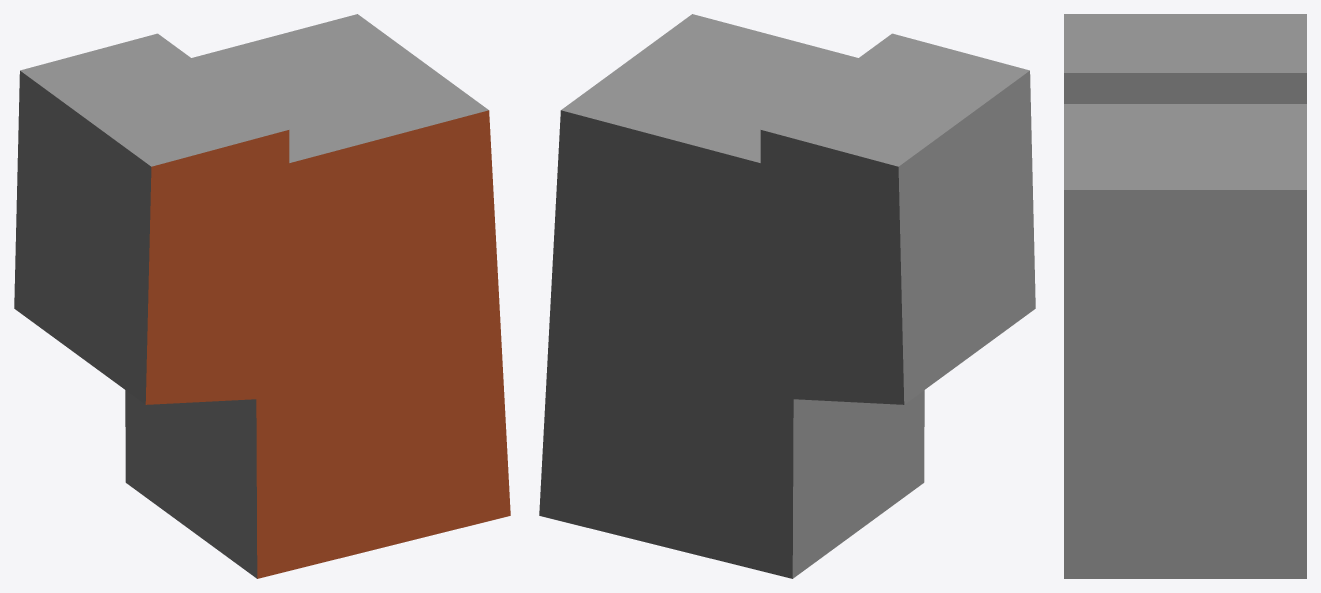
File: construction_2889_assumed_A_Casa_h6m.obj
3 views of the same model, side by side, from view 1: azimuth 30°, elevation 25°; view 2: azimuth 150°, elevation 25°; view 3: azimuth 270°, elevation 25° (orthographic). The views are drawn at different scales.
Visible parts, largest first — view 1: construction_2889_assumed_A_Casa; view 2: construction_2889_assumed_A_Casa; view 3: construction_2889_assumed_A_Casa.
Part boxes in pixels (x1,y1,x2,y2): construction_2889_assumed_A_Casa: (14, 14, 510, 578); construction_2889_assumed_A_Casa: (539, 14, 1035, 578); construction_2889_assumed_A_Casa: (1064, 14, 1306, 578).
Bounding box in the file's own units: 9.61 × 11.11 × 6.
